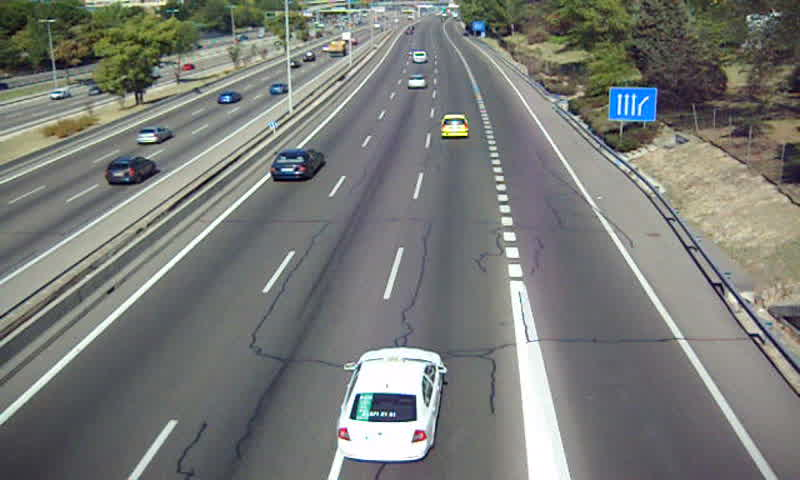car: (335, 347, 445, 462), (271, 150, 322, 180), (441, 113, 470, 139), (408, 73, 427, 90)
